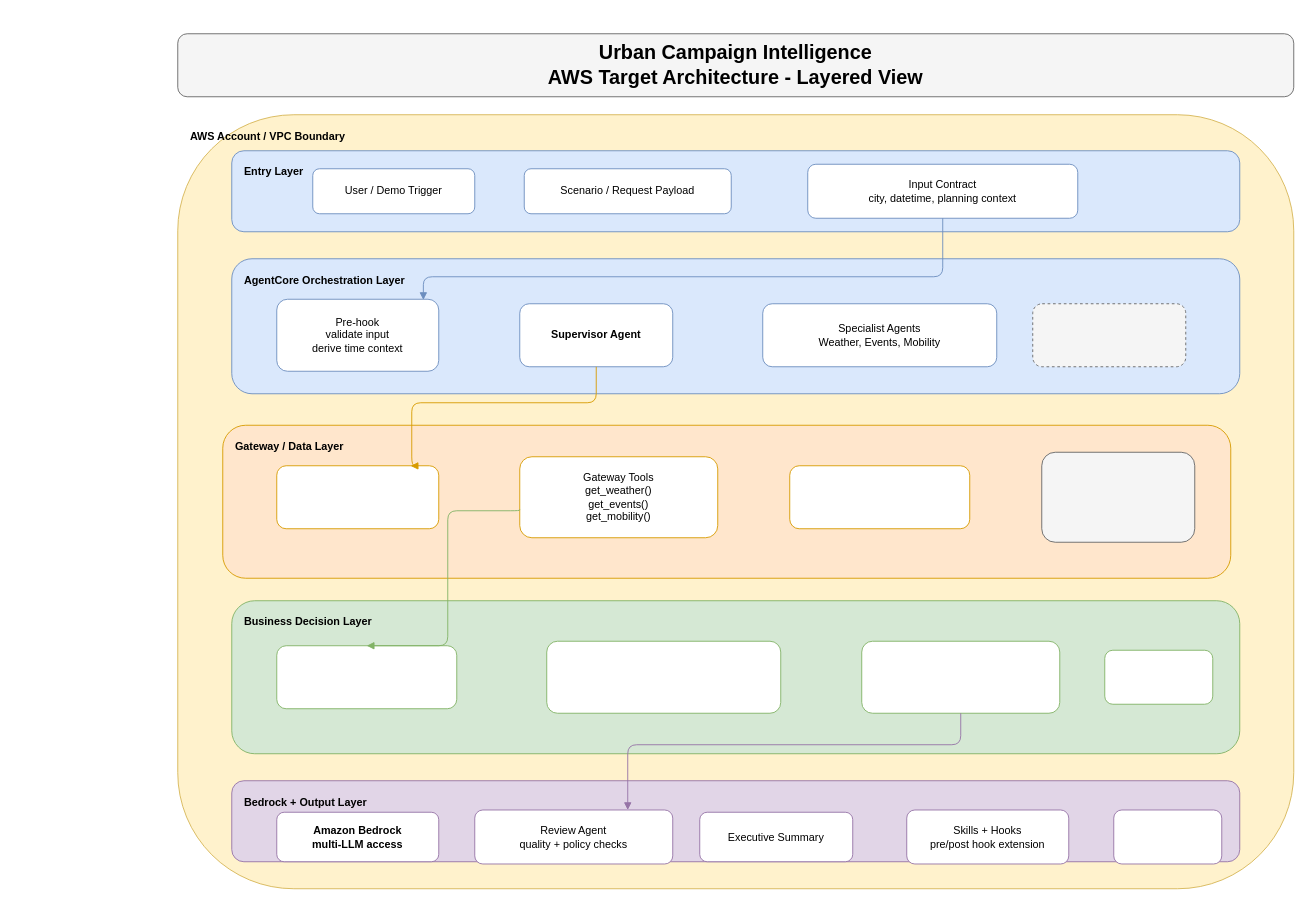
Some shapes in this 1310 by 905 pixel diagram are drawn without their labels. The centre of each missing label's shape, as x and y in pixels:
AgentCore Gateway: the point at 357,497
CityContext Builder: the point at 366,677
Deterministic Scoring + Allocation: the point at 960,676
External Signals Open-Meteo Paris Open Data mobility forecast: the point at 1118,496
Final Recommendation JSON + logs + summary: the point at 1167,836
Optional multi-LLM routing per-agent model selection: the point at 1109,335
Reasoning Agents Zone Analyzer + Advertiser Matcher: the point at 663,676
Rules / guardrails: the point at 1158,676
Static Repositories zones advertisers: the point at 879,497
